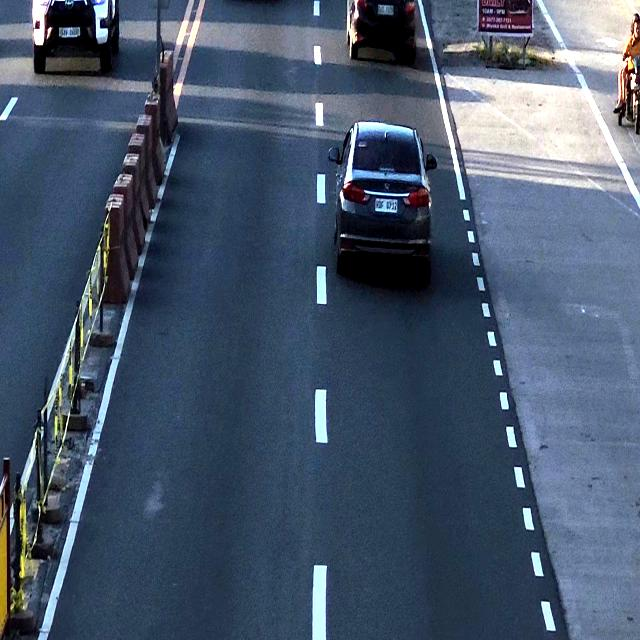Car: (332, 119, 436, 275), (343, 0, 423, 56)
License-Plate: (371, 195, 400, 218), (376, 2, 394, 16)
